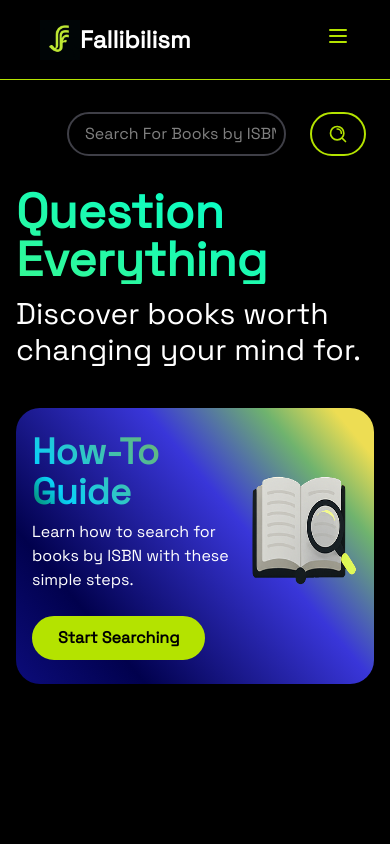
Test: NavBar › checks the mobile menu shows and hides
This screenshot has width=390, height=844.
Note: Click the Menu
Click the button with test id "hamburger-button" at point(338, 36), box [326,24,350,48]
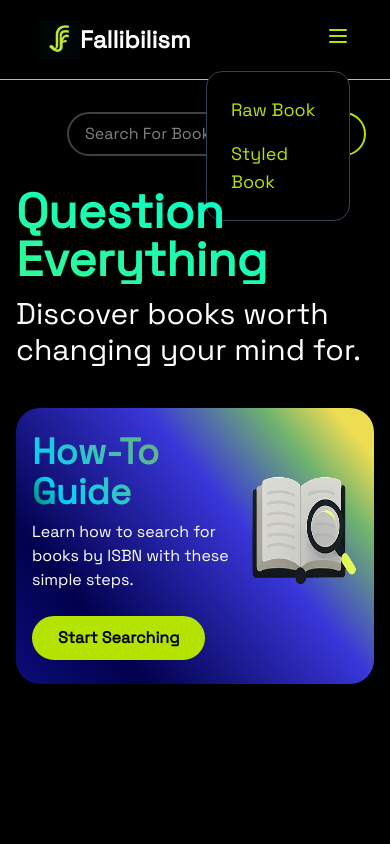
expect the link with test id "hamburger-raw-book" is shown: met, box [231,98,315,121]
Note: Close Menu
Click the picture with alt text "logo" at point(60, 40), box [40,20,80,60]
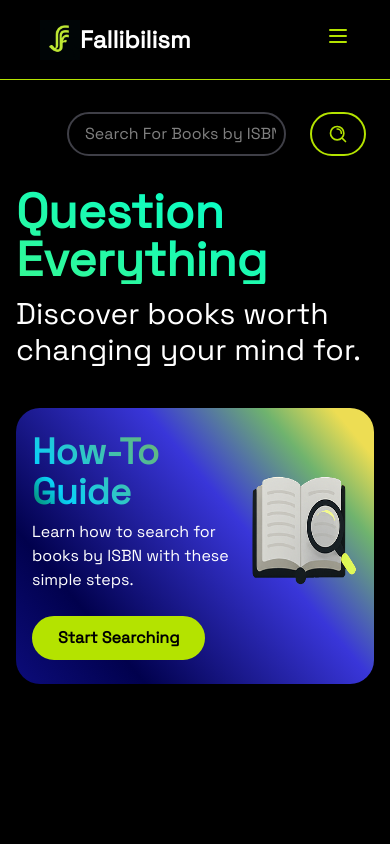
expect the link with test id "hamburger-raw-book" is gone: met
